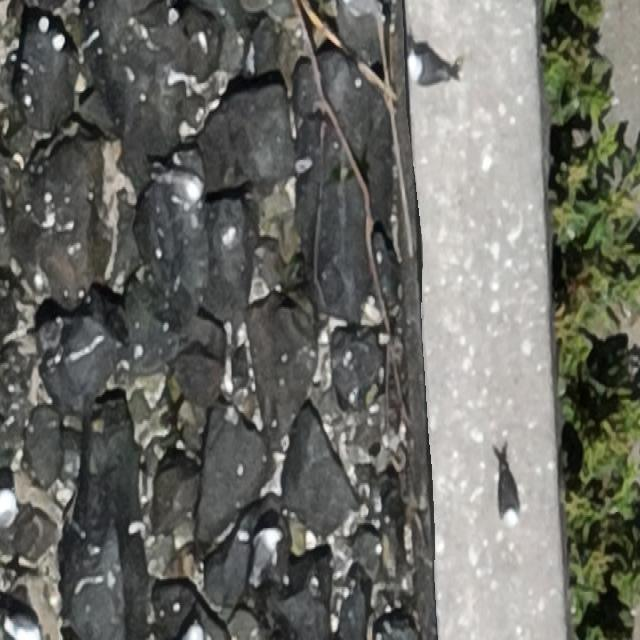umineko: (408, 46, 452, 81), (496, 468, 521, 524)
